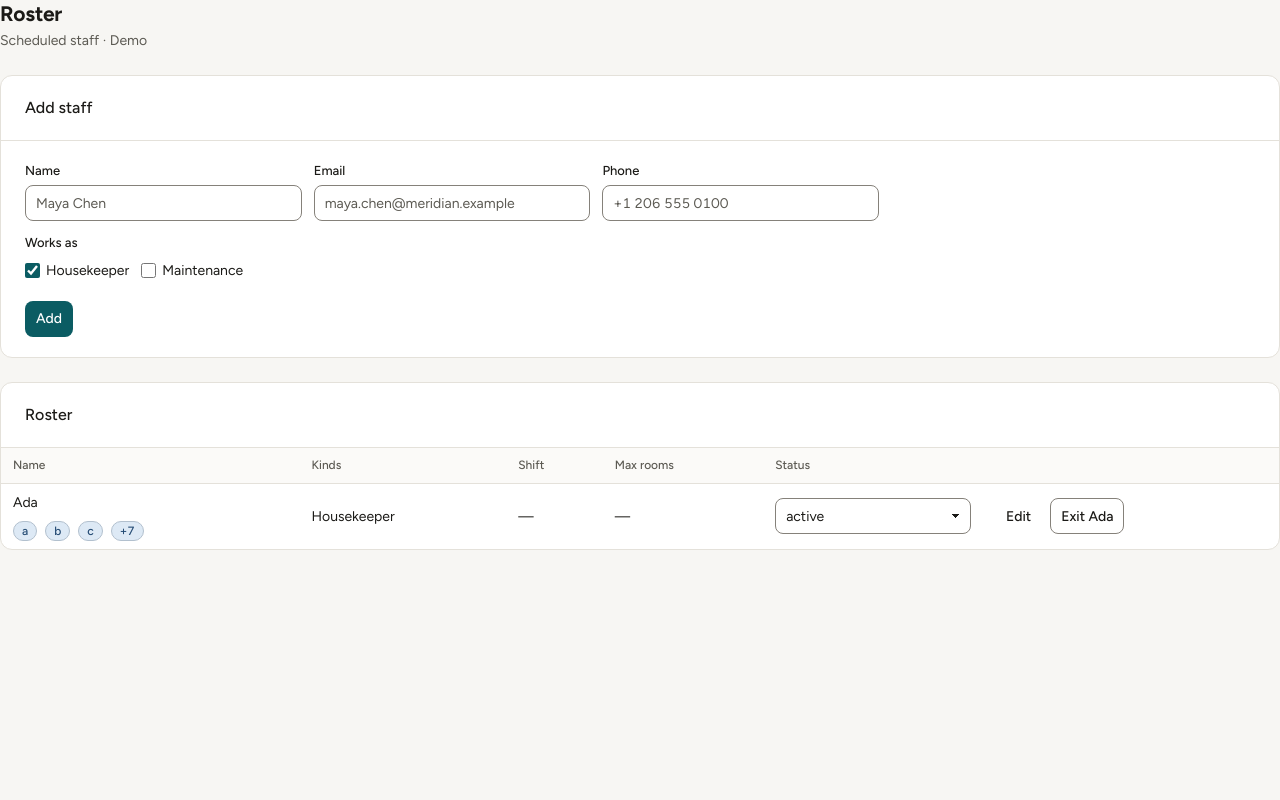
Test: RosterScreen (not E2E) › skill chips remove and stop at 10
The width and height of the screenshot is (1280, 800).
Click the button with aria-label "Edit Ada": click(1019, 516) [995,498,1042,534]
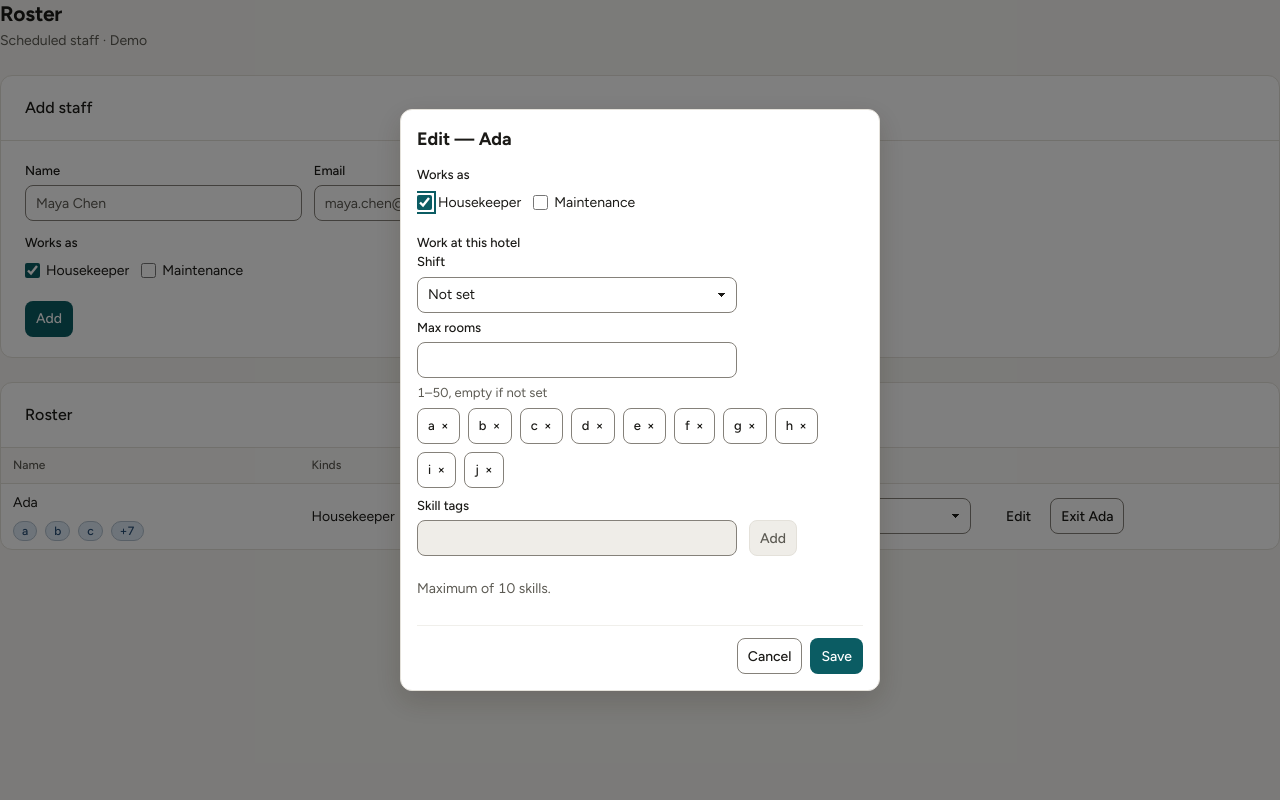
Check: the text "Maximum of 10 skills." is shown, box [417,580,551,597]
Check: the button "Add" is disabled, box [749,520,797,556]
Click the button named "Remove skill a": click(438, 426) [417,408,460,444]
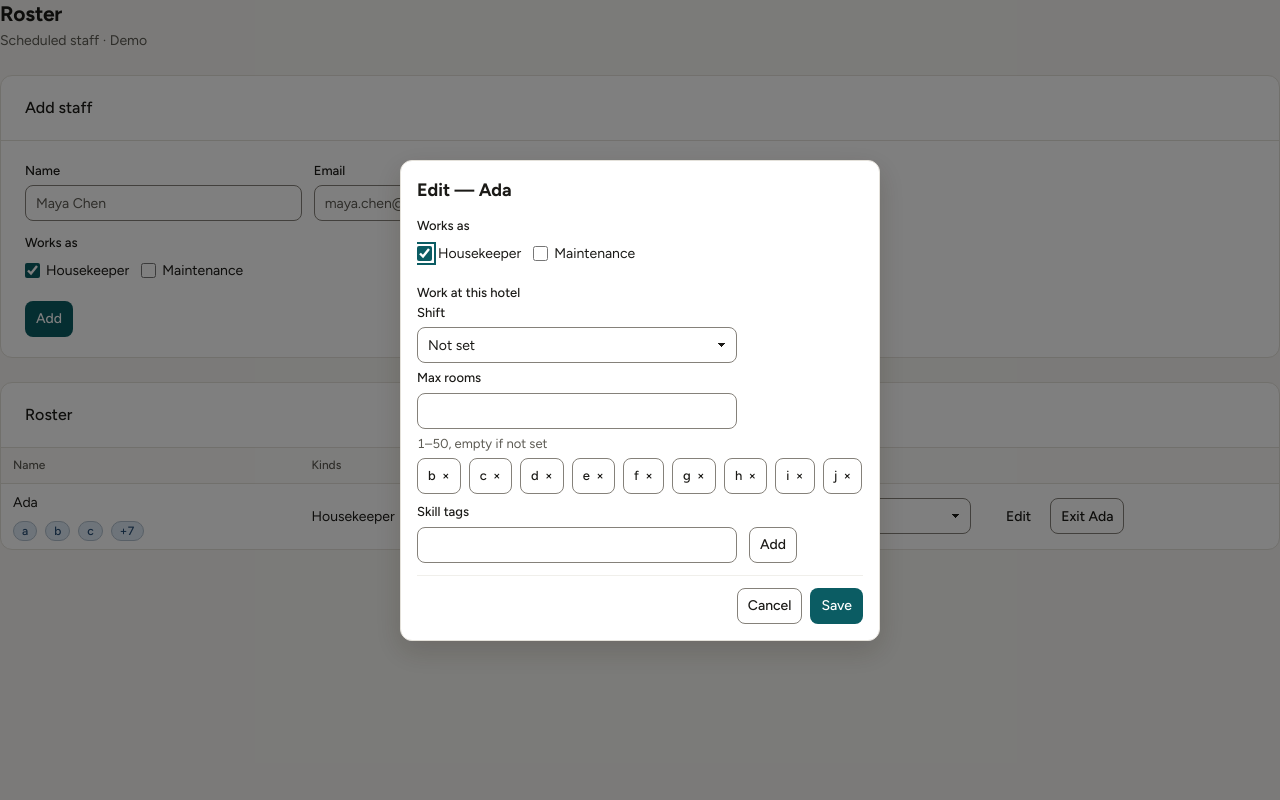
Check: the text "Maximum of 10 skills." is gone
Check: the button "Add" is enabled, box [749,526,797,562]
